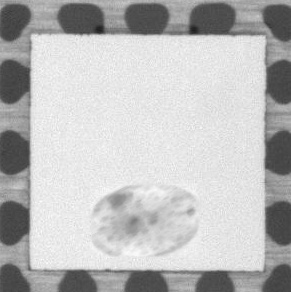DIE_INK: (87, 181, 202, 261)
